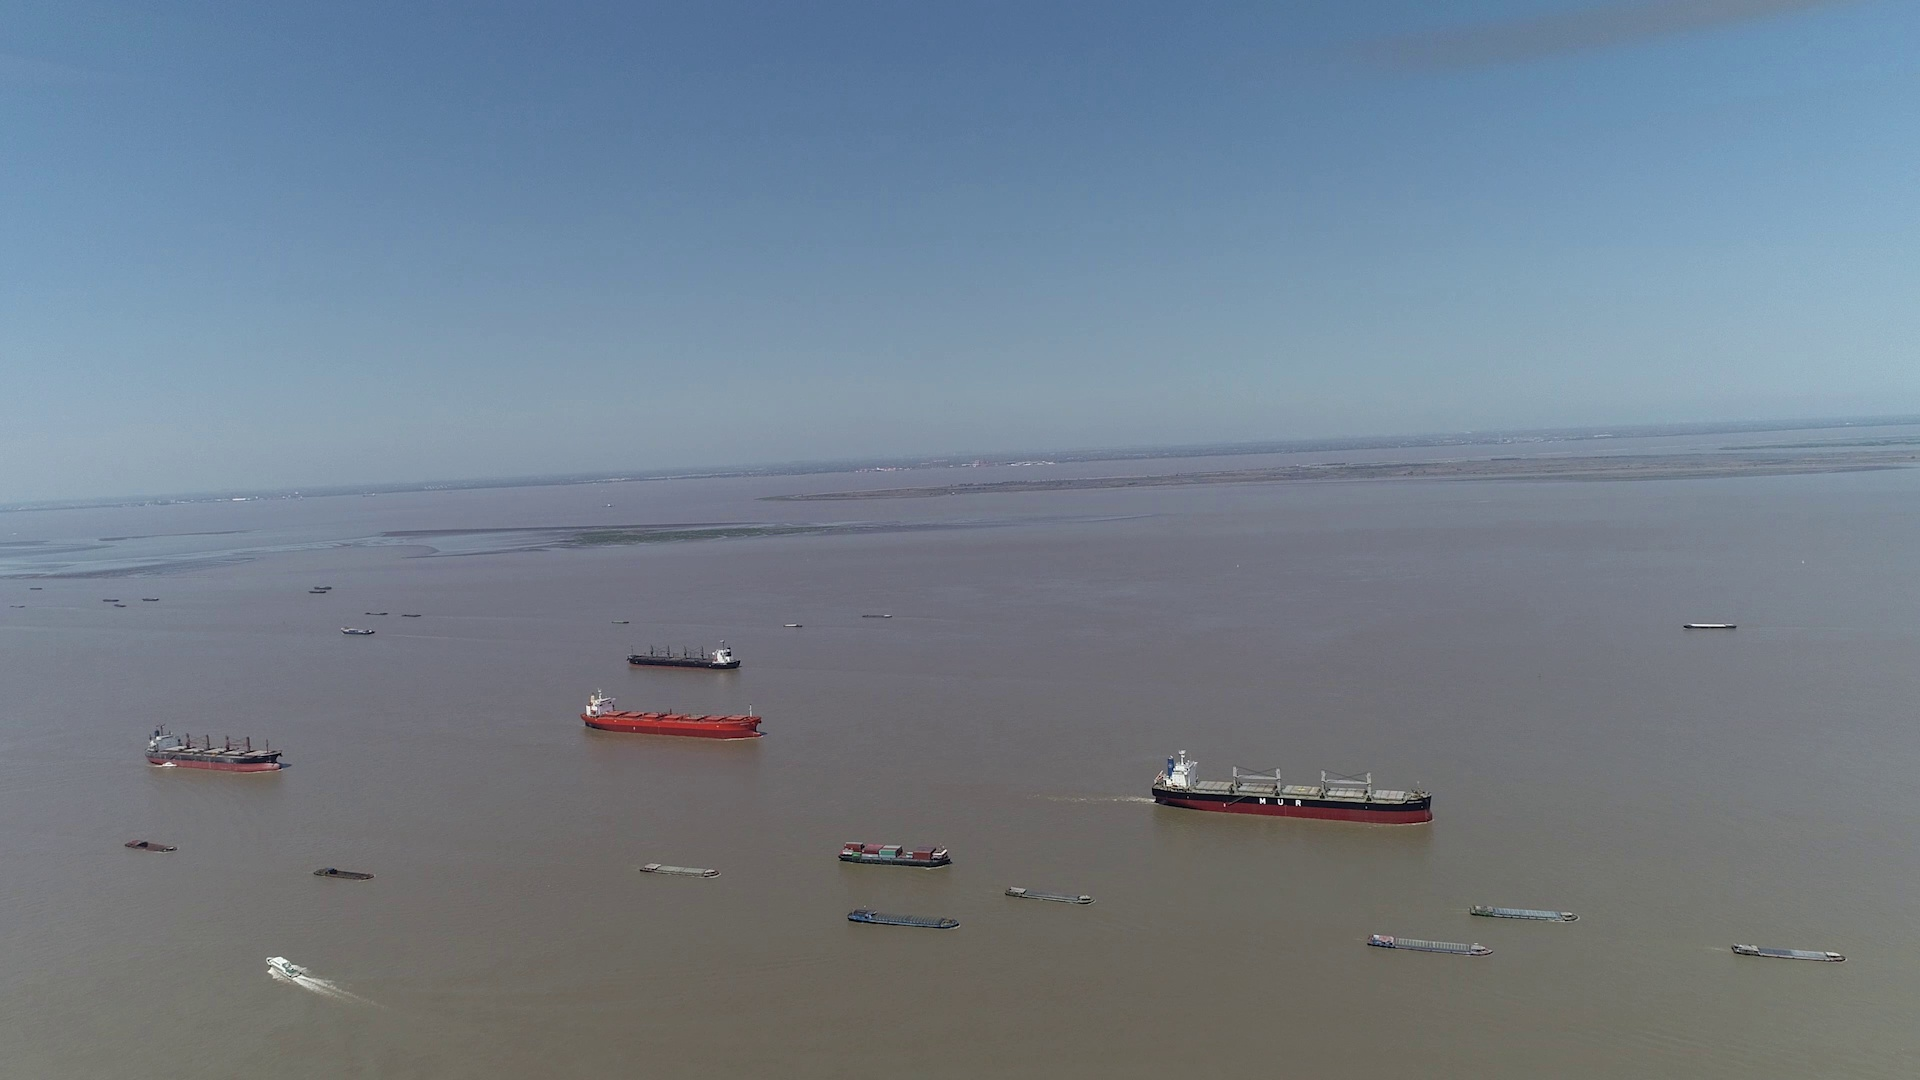ship: (1155, 750, 1433, 825), (580, 688, 761, 738), (145, 725, 284, 773), (626, 642, 741, 669), (836, 841, 951, 868), (1367, 934, 1491, 957), (1729, 942, 1846, 963), (847, 909, 961, 928), (1470, 902, 1577, 922), (1005, 886, 1091, 905), (638, 862, 719, 877), (124, 837, 175, 852), (315, 868, 375, 880), (266, 955, 295, 978), (1687, 622, 1735, 630), (342, 625, 375, 636)
